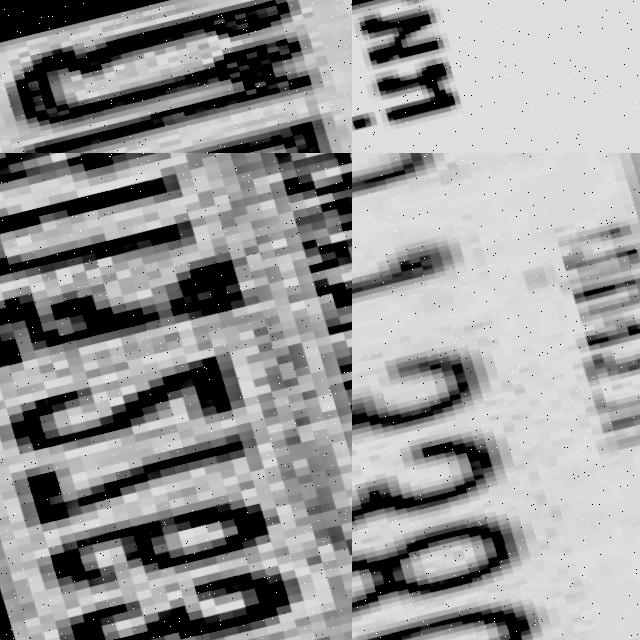license-plate: (0, 153, 352, 640), (352, 153, 640, 640), (0, 0, 352, 153), (352, 0, 640, 153)
